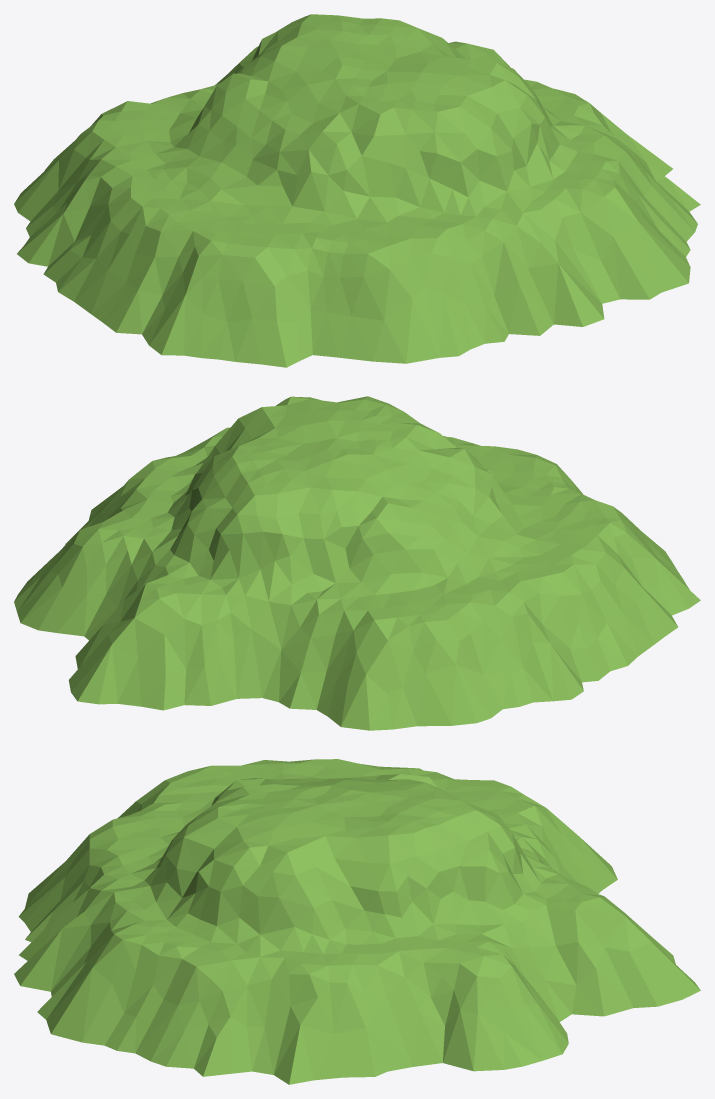
Rendered from MT_Island_L_b_05_LOD.fbx.
3 views of the same model, one above another, from view 1: azimuth 30°, elevation 25°; view 2: azimuth 150°, elevation 25°; view 3: azimuth 270°, elevation 25° (orthographic). The views are drawn at different scales.
Parts seen in each view (by area): view 1: MT_Island_L_b_05_LOD0; view 2: MT_Island_L_b_05_LOD0; view 3: MT_Island_L_b_05_LOD0.
Boxes of the visible parts, x1,y1,x2,y2 form: MT_Island_L_b_05_LOD0: (14,14,700,367); MT_Island_L_b_05_LOD0: (14,396,700,730); MT_Island_L_b_05_LOD0: (14,759,700,1084).
Size of what is drawn, in the model's own units: 9011 by 2288 by 9281.
